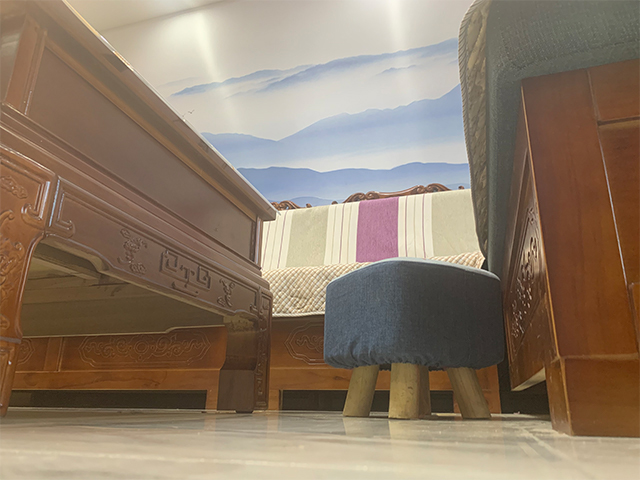sofa: (271, 1, 640, 438)
stool: (323, 258, 503, 422)
table: (1, 1, 278, 415)
